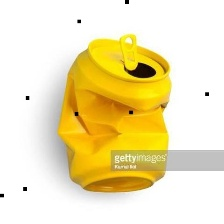can: (55, 31, 174, 196)
